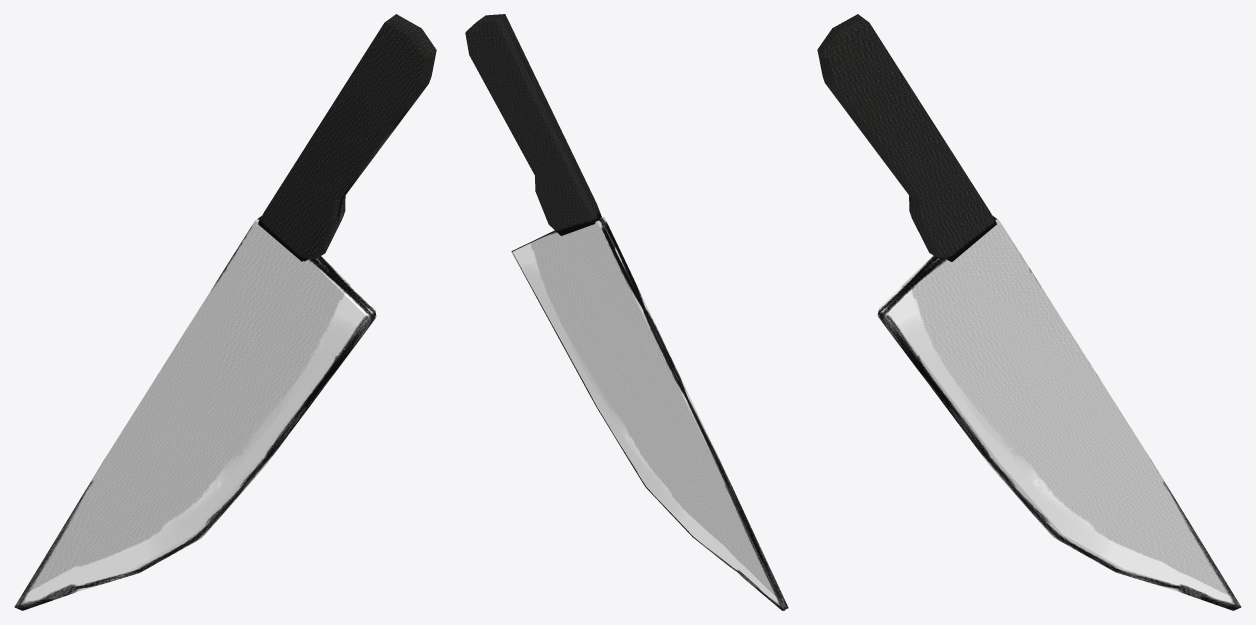
The model's file is detail_knife_2.glb.
3 renders of one model, left to right at view 1: azimuth 30°, elevation 25°; view 2: azimuth 210°, elevation 25°; view 3: azimuth 270°, elevation 25°, orthographic. The views are drawn at different scales.
Parts seen in each view (by area): view 1: Knife.001; view 2: Knife.001; view 3: Knife.001.
Part boxes in pixels (box(x1,y1,x2,y2)): Knife.001: box(14, 14, 436, 610); Knife.001: box(465, 14, 788, 610); Knife.001: box(817, 14, 1241, 610).
Size of the model in its own units: 0.00693 by 0.0208 by 0.0118.
1 material, 1 textured.
